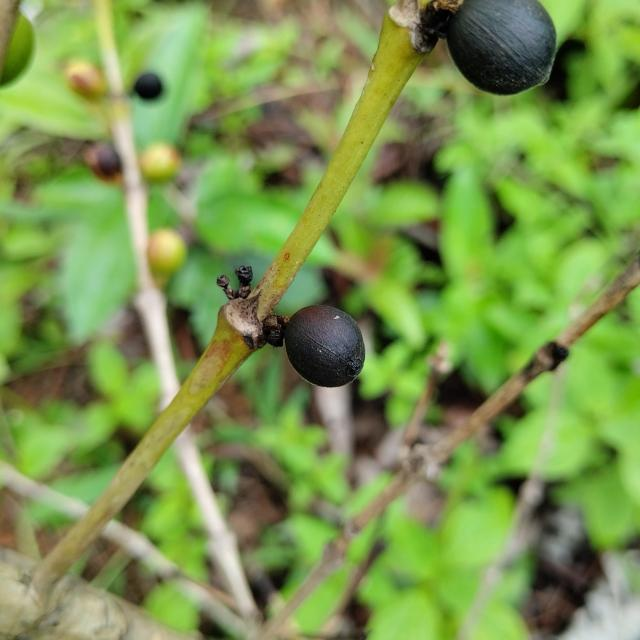Overripe: (447, 0, 557, 94), (284, 305, 365, 388)
